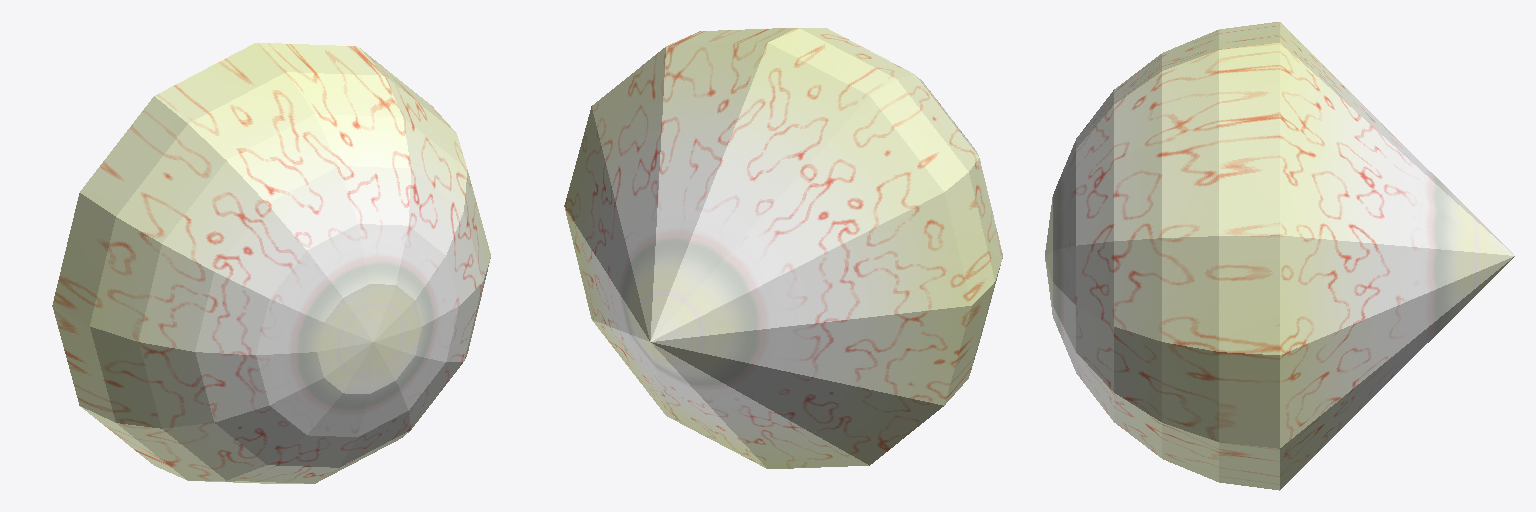
3 renders of one model, left to right at view 1: azimuth 30°, elevation 25°; view 2: azimuth 150°, elevation 25°; view 3: azimuth 270°, elevation 25°, orthographic.
Parts seen in each view (by area): view 1: zombie_eye_right_mesh; view 2: zombie_eye_right_mesh; view 3: zombie_eye_right_mesh.
Part boxes in pixels (bbox=[...]): zombie_eye_right_mesh: bbox=[52, 43, 490, 483]; zombie_eye_right_mesh: bbox=[564, 28, 1002, 468]; zombie_eye_right_mesh: bbox=[1045, 22, 1514, 490].
Bounding box in the file's own units: 0.0367 × 0.0367 × 0.0367.
Materials: 1 (1 with a texture image).